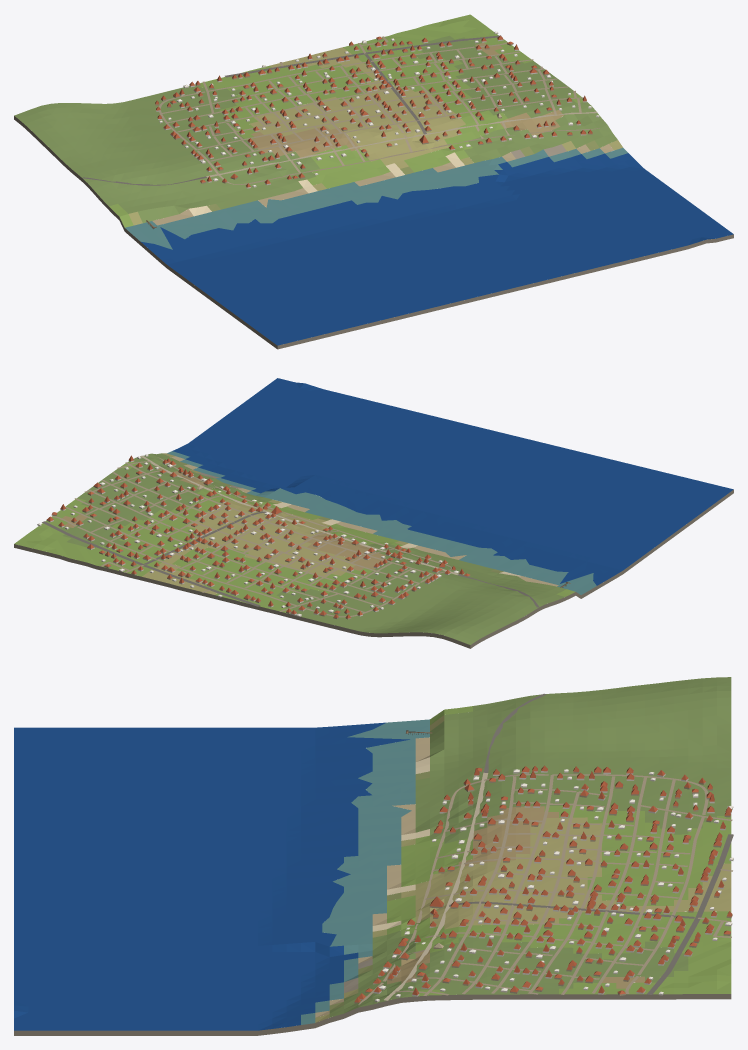
Rendered from parca_-1_-6-uzak.glb.
3 renders of one model, top to bottom at view 1: azimuth 30°, elevation 25°; view 2: azimuth 150°, elevation 25°; view 3: azimuth 270°, elevation 25°, orthographic. The views are drawn at different scales.
Visible parts, largest first — view 1: parca_-1_-6_arazi_uzak, parca_-1_-6_yapilar_uzak, parca_-1_-6_yollar_uzak; view 2: parca_-1_-6_arazi_uzak, parca_-1_-6_yapilar_uzak, parca_-1_-6_yollar_uzak; view 3: parca_-1_-6_arazi_uzak, parca_-1_-6_yapilar_uzak, parca_-1_-6_yollar_uzak.
Boxes of the visible parts, x1=… form: parca_-1_-6_arazi_uzak: x1=14, y1=14, x2=733, y2=349; parca_-1_-6_yapilar_uzak: x1=155, y1=31, x2=599, y2=188; parca_-1_-6_yollar_uzak: x1=82, y1=35, x2=603, y2=185; parca_-1_-6_arazi_uzak: x1=14, y1=378, x2=733, y2=648; parca_-1_-6_yapilar_uzak: x1=37, y1=454, x2=470, y2=619; parca_-1_-6_yollar_uzak: x1=42, y1=455, x2=538, y2=617; parca_-1_-6_arazi_uzak: x1=14, y1=677, x2=731, y2=1035; parca_-1_-6_yapilar_uzak: x1=354, y1=765, x2=733, y2=1003; parca_-1_-6_yollar_uzak: x1=358, y1=693, x2=733, y2=1004.
Bounding box in the file's own units: 1006 × 92.55 × 1004.
